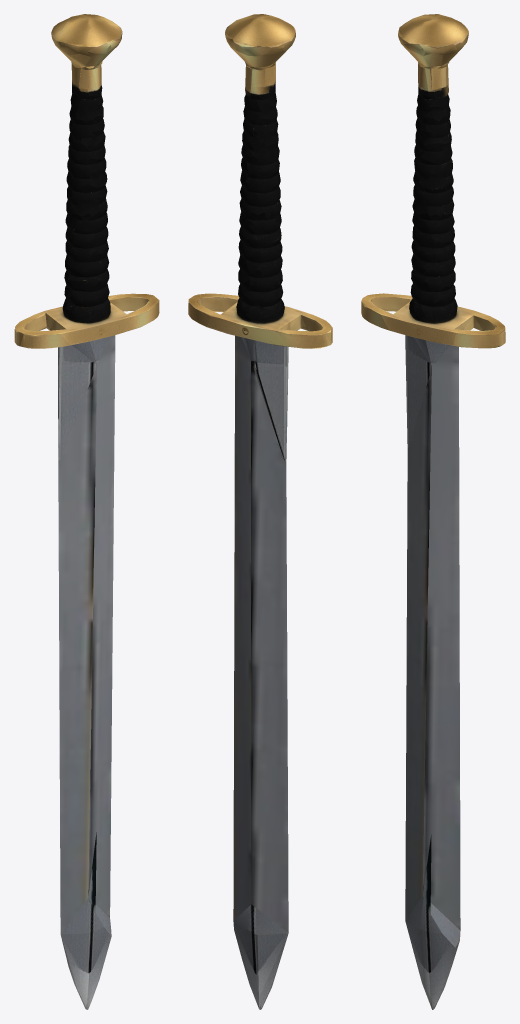
The model's file is wpn_songdao.glb.
3 views of the same model, side by side, from view 1: azimuth 30°, elevation 25°; view 2: azimuth 150°, elevation 25°; view 3: azimuth 330°, elevation 25° (orthographic).
Bounding box in the file's own units: 0.2823 × 1.9 × 0.1223.
Materials: 1 (1 with a texture image).
